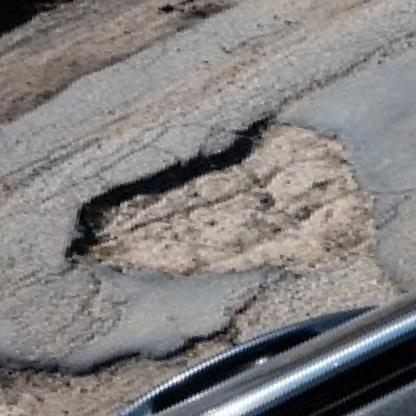pothole: (65, 84, 407, 317), (0, 261, 234, 416)
